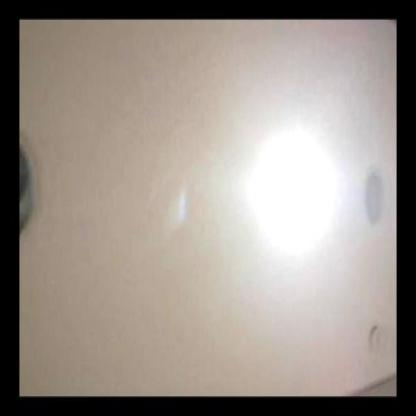light_off: (19, 126, 49, 244)
